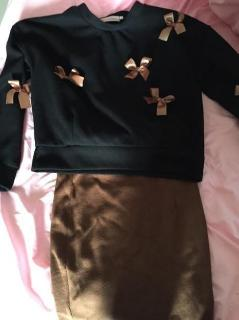long sleeve top: (0, 1, 239, 192)
skirt: (50, 154, 215, 319)
